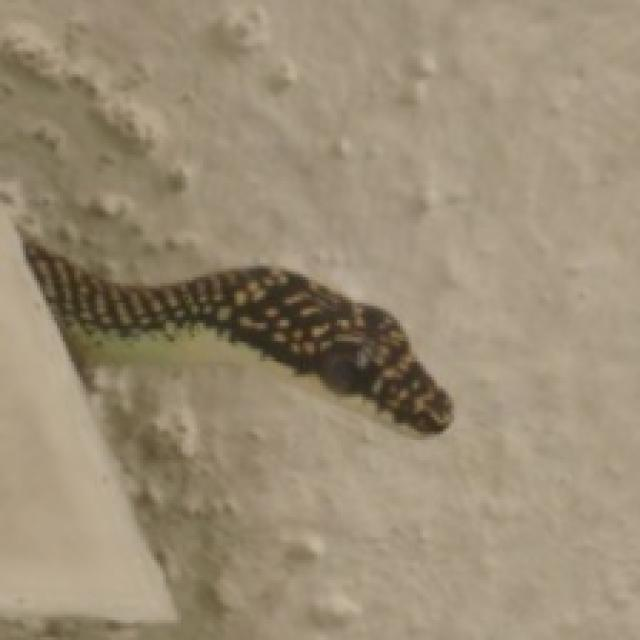paradise tree snake: (22, 233, 452, 437)
